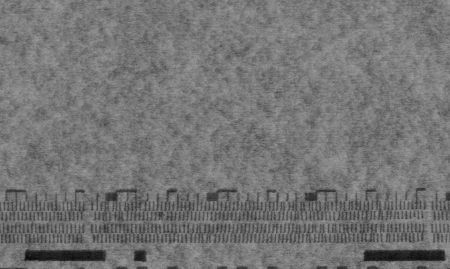Oblique printing: (288, 195, 399, 246), (95, 200, 133, 223), (191, 219, 220, 244)
